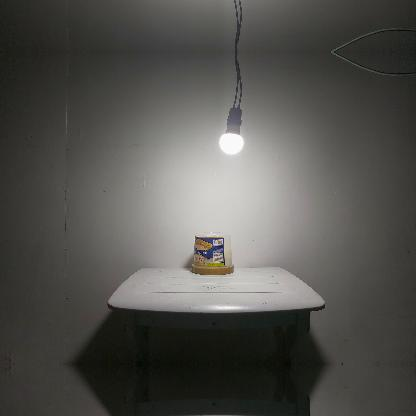Lady-s-Choice: (191, 231, 235, 275)
